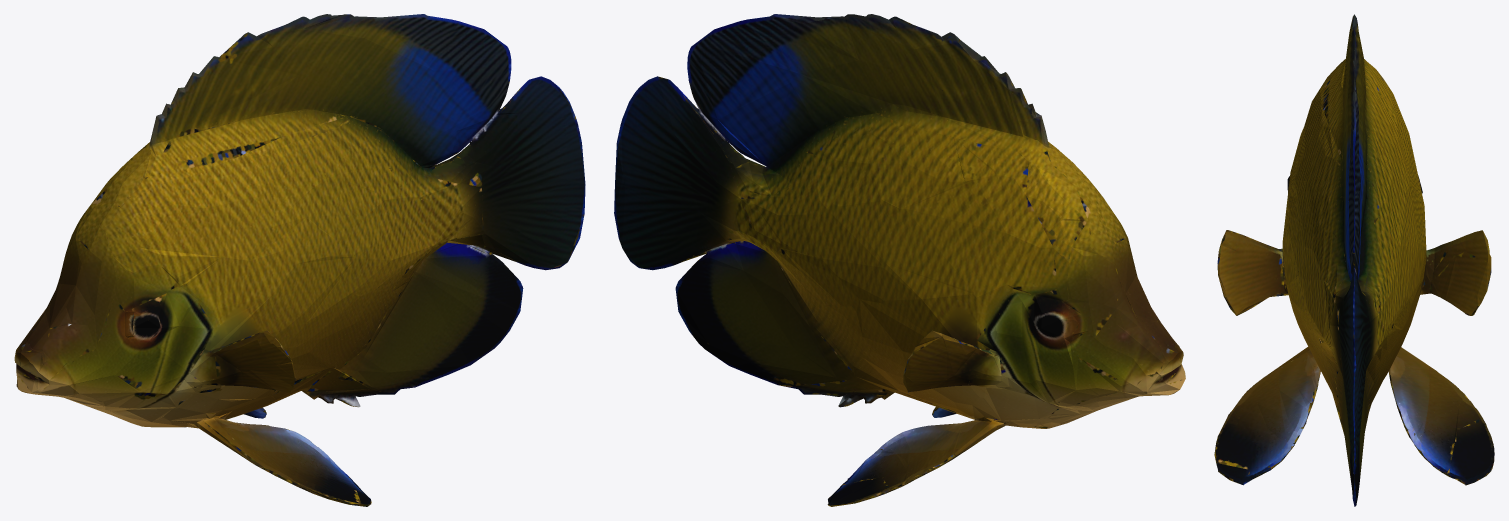
The model's file is fish_0051_smpl23_resized.glb.
3 views of the same model, side by side, from view 1: azimuth 30°, elevation 25°; view 2: azimuth 150°, elevation 25°; view 3: azimuth 270°, elevation 25° (orthographic).
Parts seen in each view (by area): view 1: world; view 2: world; view 3: world.
Boxes of the visible parts, left/top/right/bottom form: world: left=14, top=14, right=585, bottom=506; world: left=614, top=14, right=1185, bottom=506; world: left=1214, top=14, right=1494, bottom=506.
Size of the model in its own units: 1.99 by 1.49 by 0.86.
1 material, 1 textured.
